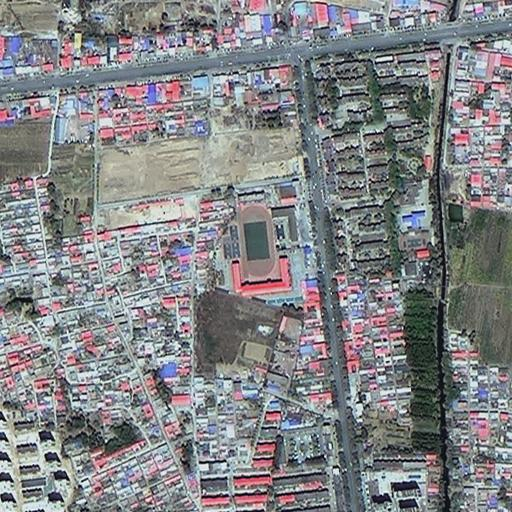school: (225, 176, 307, 297), (395, 208, 440, 253)
